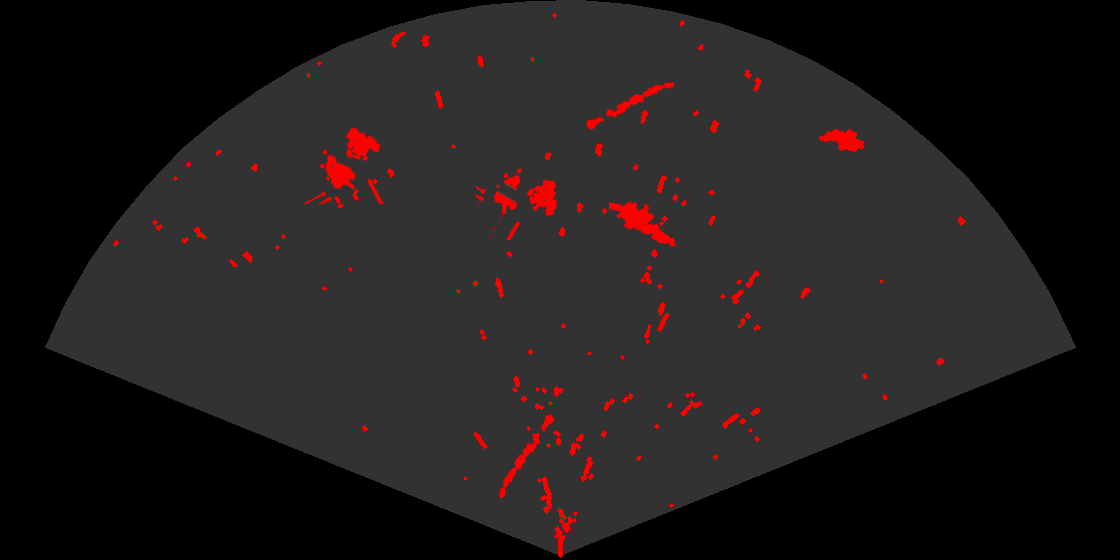AUV: (817, 128, 866, 154)
cage: (302, 126, 385, 204), (476, 167, 559, 240)
chain: (498, 413, 556, 500), (584, 81, 676, 132)
frogman: (609, 200, 678, 248)
